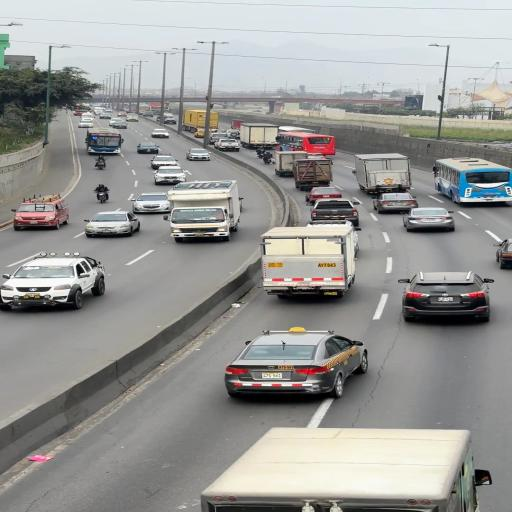auto: (201, 426, 476, 509), (224, 327, 367, 397), (2, 249, 107, 309), (399, 271, 492, 321), (84, 210, 142, 237), (306, 198, 359, 226), (401, 206, 456, 232), (372, 192, 418, 214), (130, 192, 172, 214), (304, 185, 344, 204), (152, 166, 188, 184), (494, 238, 512, 268), (149, 155, 178, 168), (185, 148, 212, 161), (150, 128, 170, 138)
bus: (433, 156, 511, 205), (279, 132, 335, 156)
camion: (257, 228, 360, 294), (164, 180, 241, 239), (353, 152, 412, 194), (291, 156, 334, 190), (238, 122, 279, 148), (85, 129, 125, 155), (182, 108, 220, 134), (273, 150, 308, 177), (277, 126, 314, 135)
moto: (93, 184, 112, 206), (266, 152, 282, 169), (94, 155, 107, 168)
